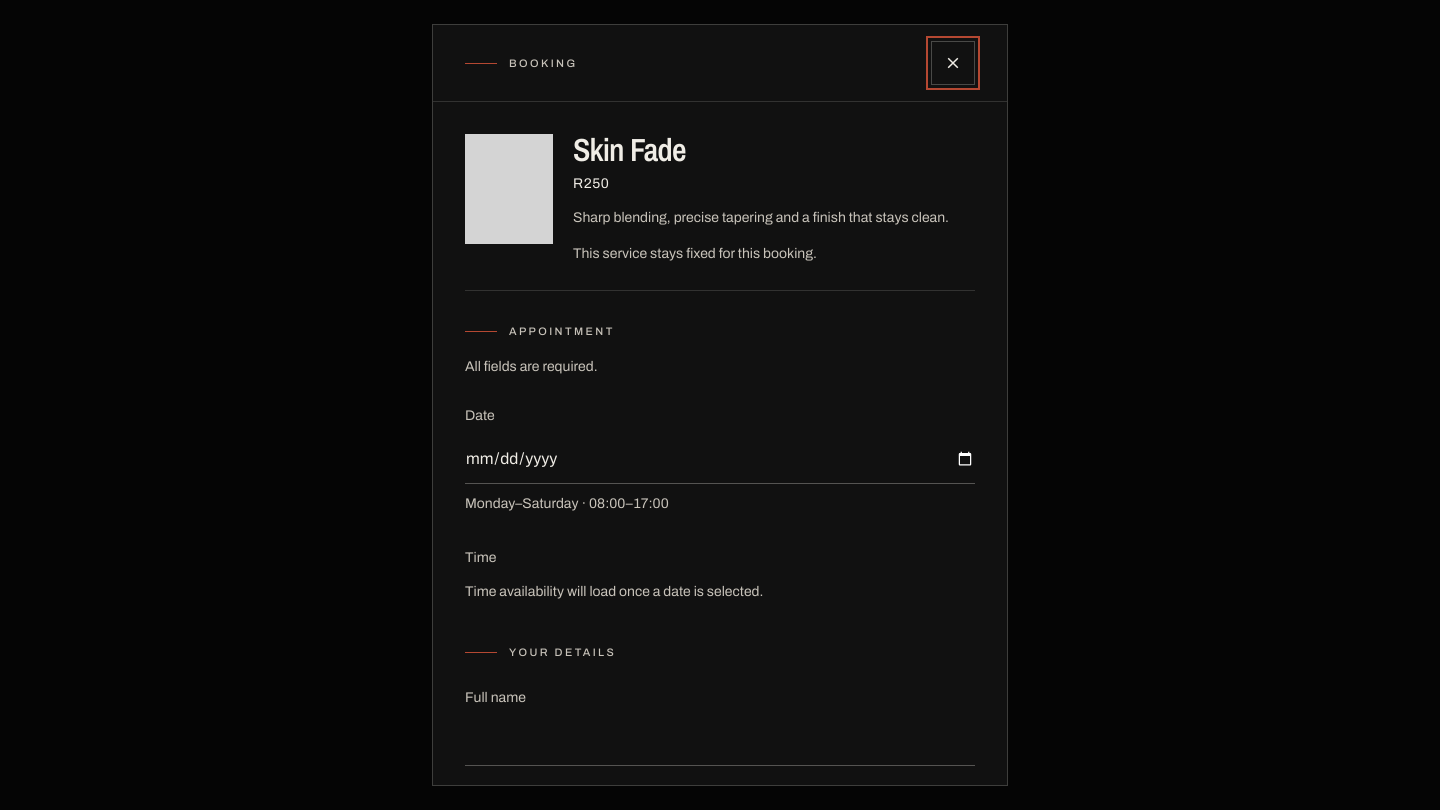
booking modal › shows a network failure without claiming the booking was saved
Step 1. Type "Jane Doe" into the field labelled "Full name" → {"x": 720, "y": 741}, box x1=465 y1=717 x2=975 y2=766
(page scrolled)
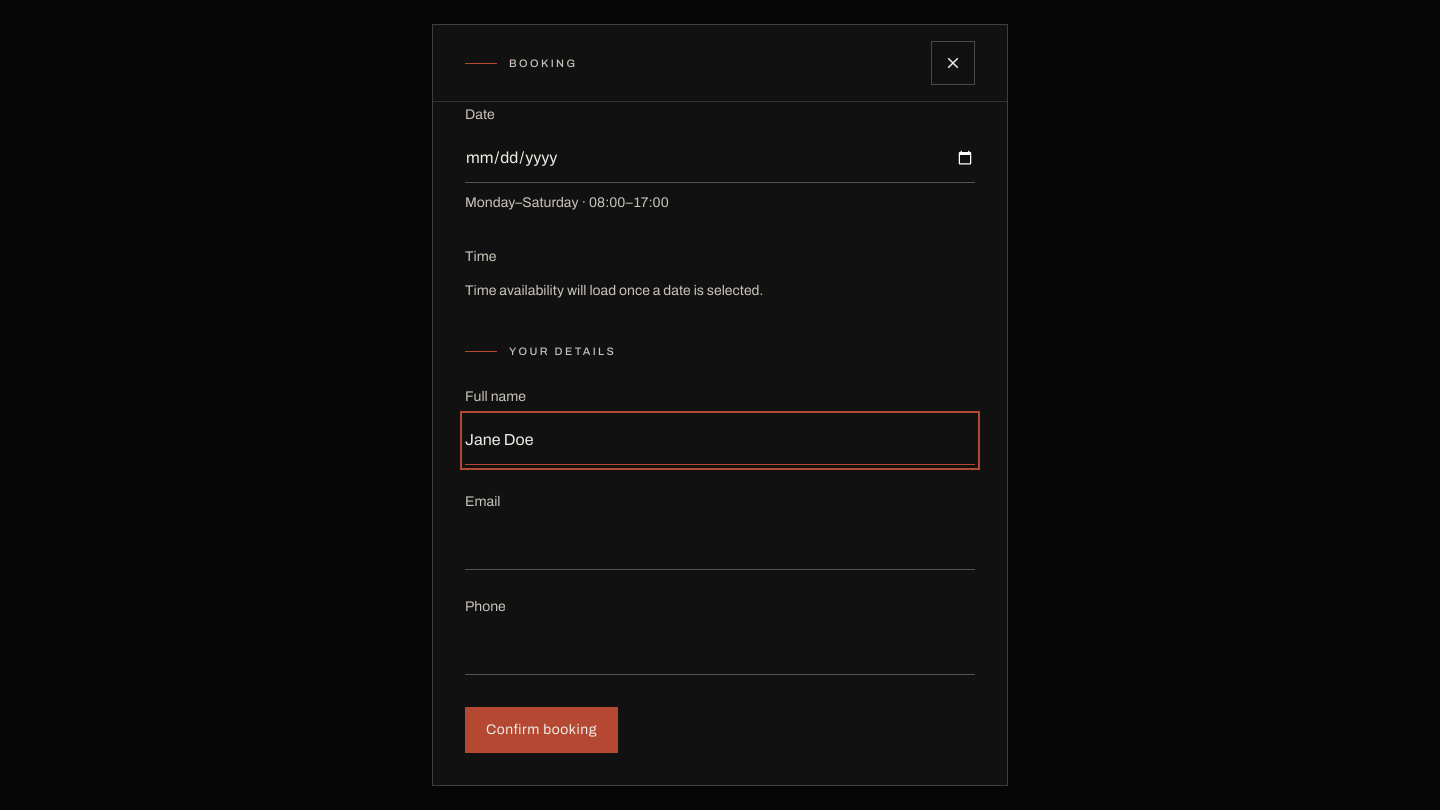
Step 2. Type "jane@example.com" into the field labelled "Email" → {"x": 720, "y": 545}, box x1=465 y1=521 x2=975 y2=570
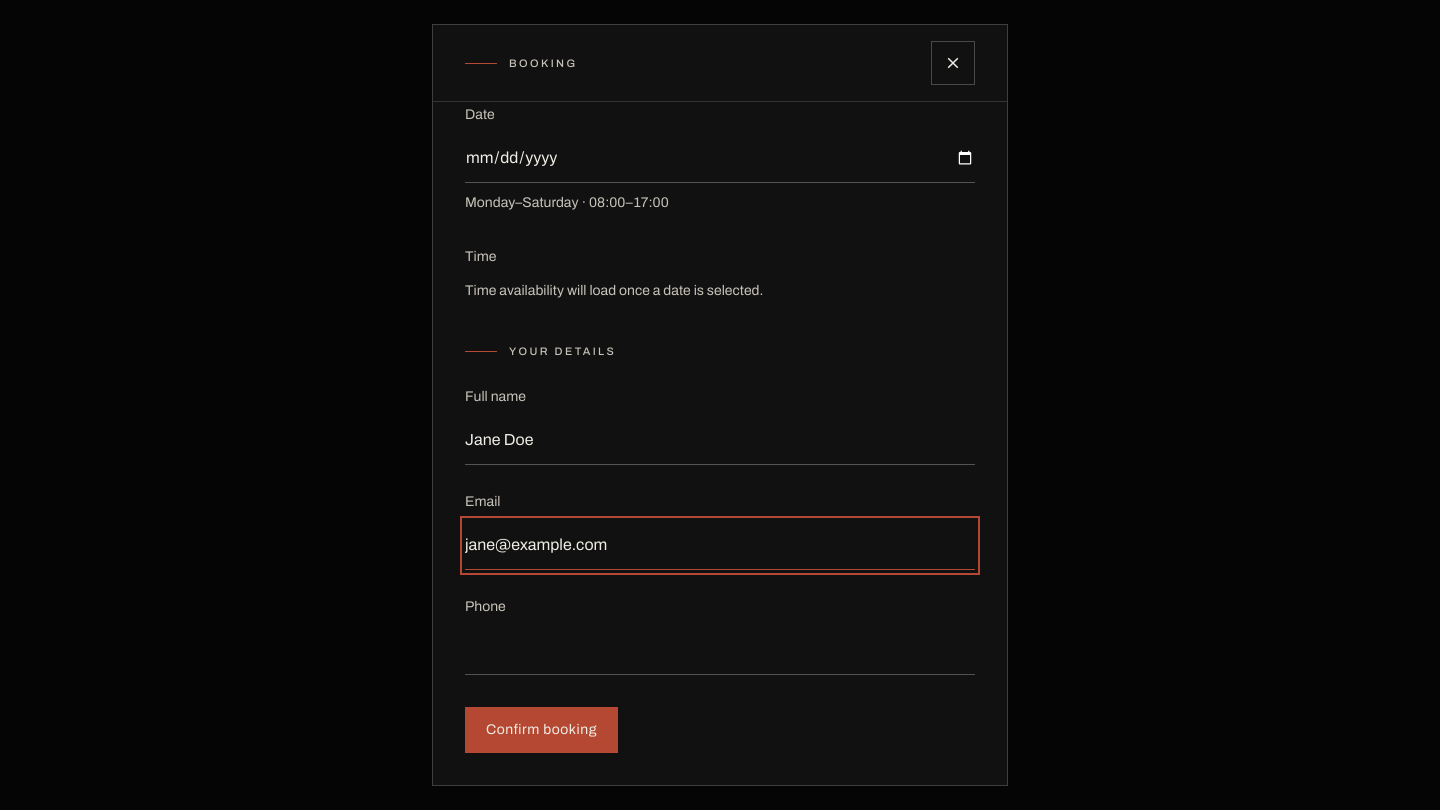
Step 3. Type "+27 82 123 4567" into the field labelled "Phone" → {"x": 720, "y": 650}, box x1=465 y1=626 x2=975 y2=675
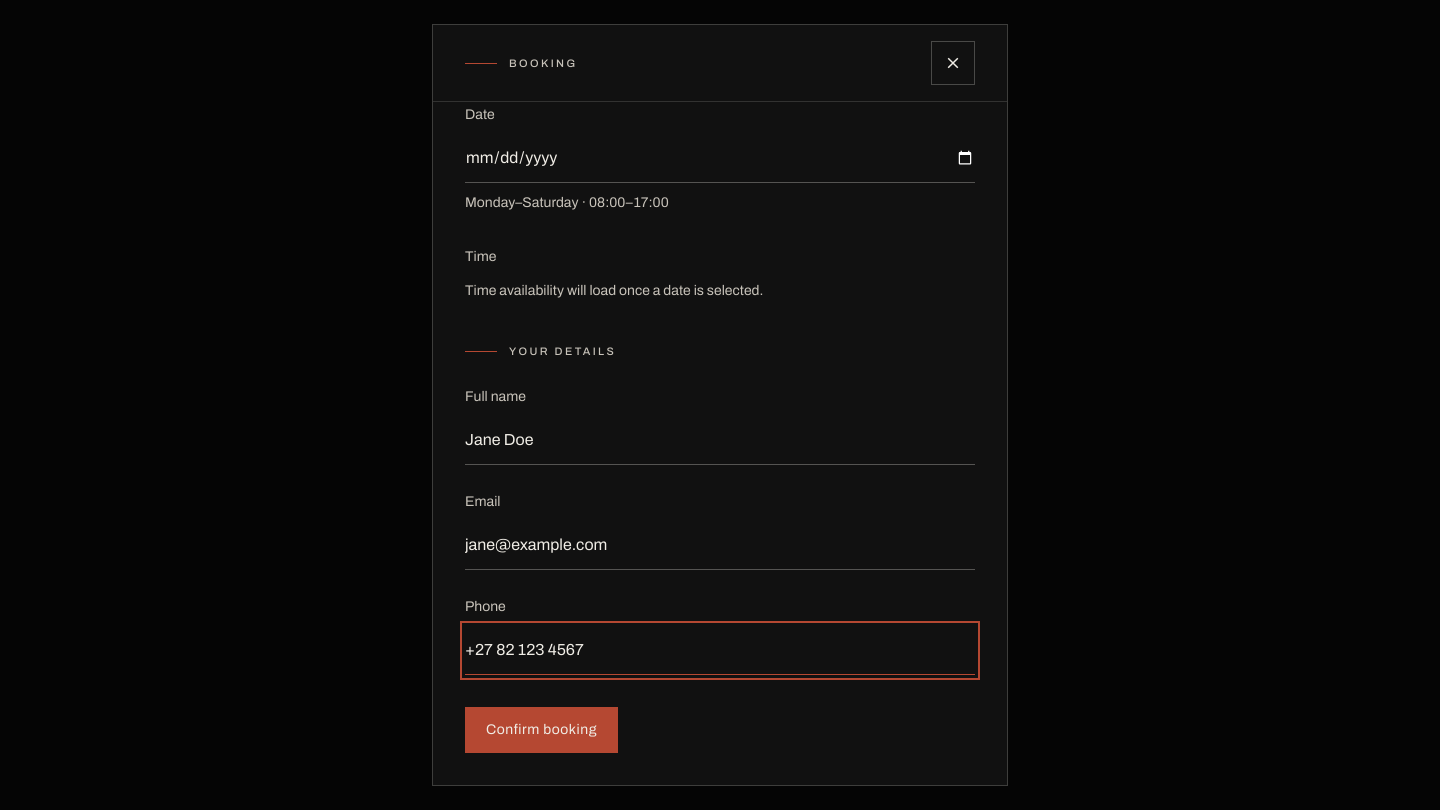
Step 4. Type "2026-09-25" into the date field labelled "Date" → {"x": 720, "y": 159}, box x1=465 y1=134 x2=975 y2=183
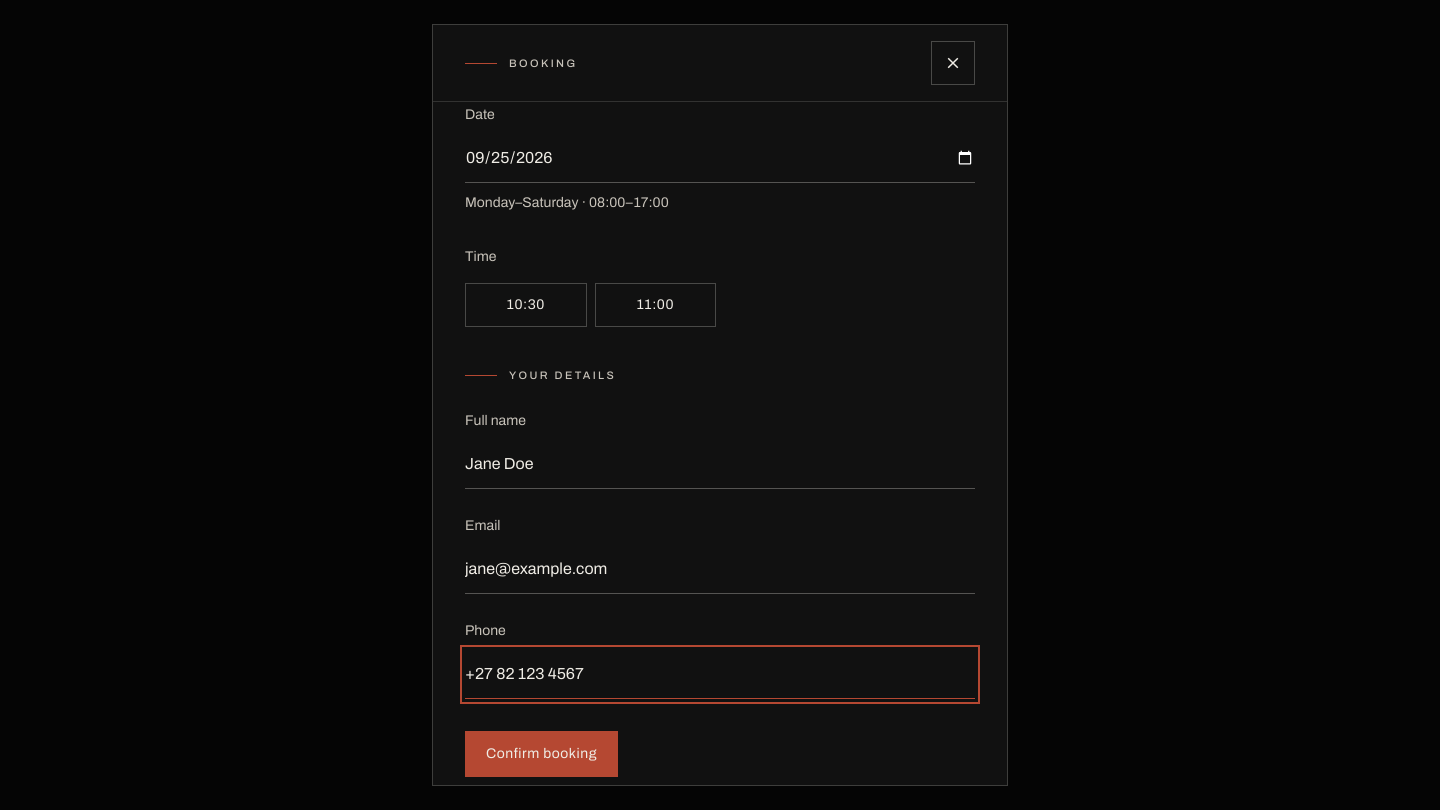
Step 5. Click the radio button labelled "10:30" → {"x": 526, "y": 305}, box x1=465 y1=283 x2=586 y2=327
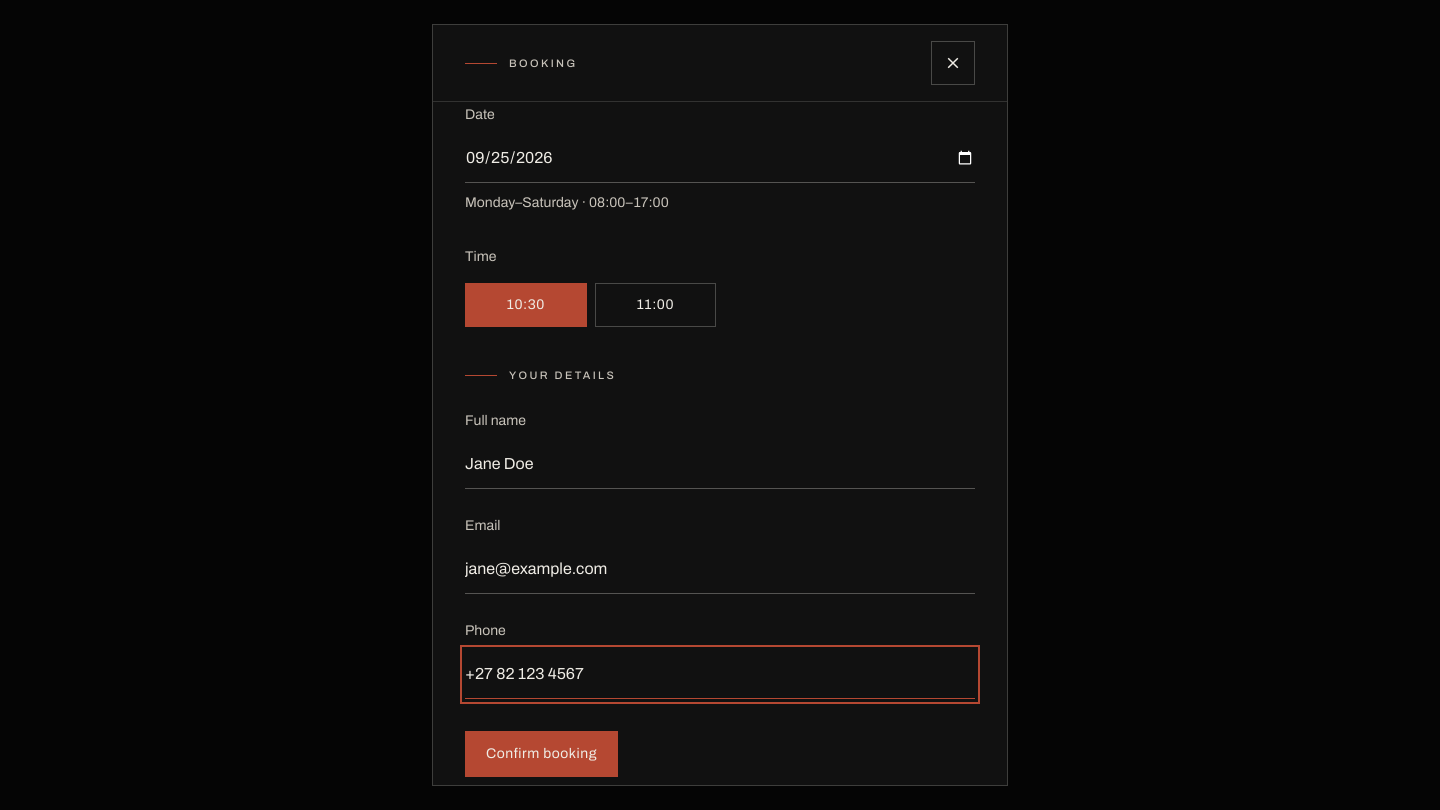
Step 6. Click the button "Confirm booking" → {"x": 542, "y": 754}, box x1=465 y1=731 x2=618 y2=777
(page scrolled)
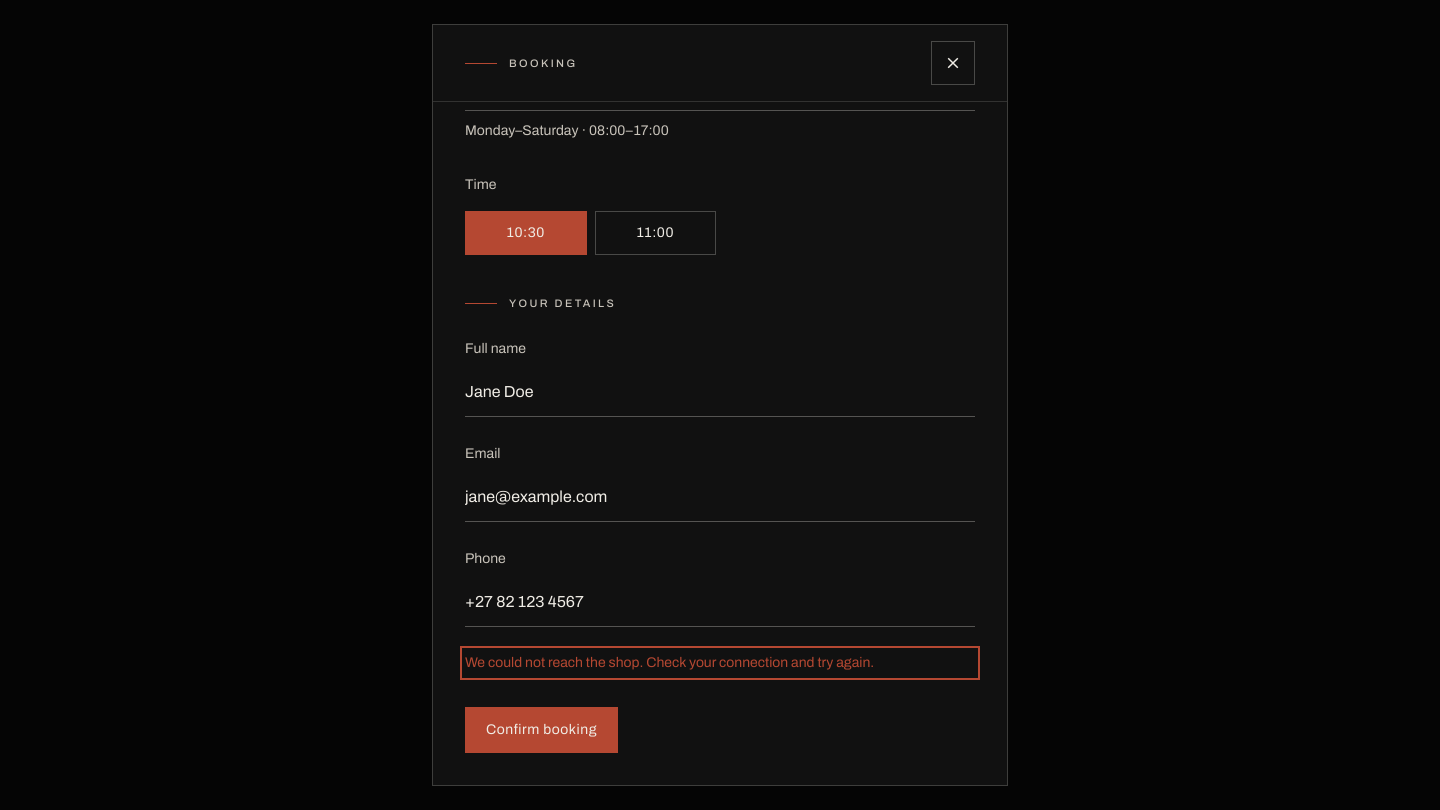
Expected: the button "Confirm booking" is enabled, x1=465 y1=707 x2=618 y2=753
Expected: the message reads "We could not reach the shop. Check your connection and try again.", x1=465 y1=655 x2=874 y2=670
